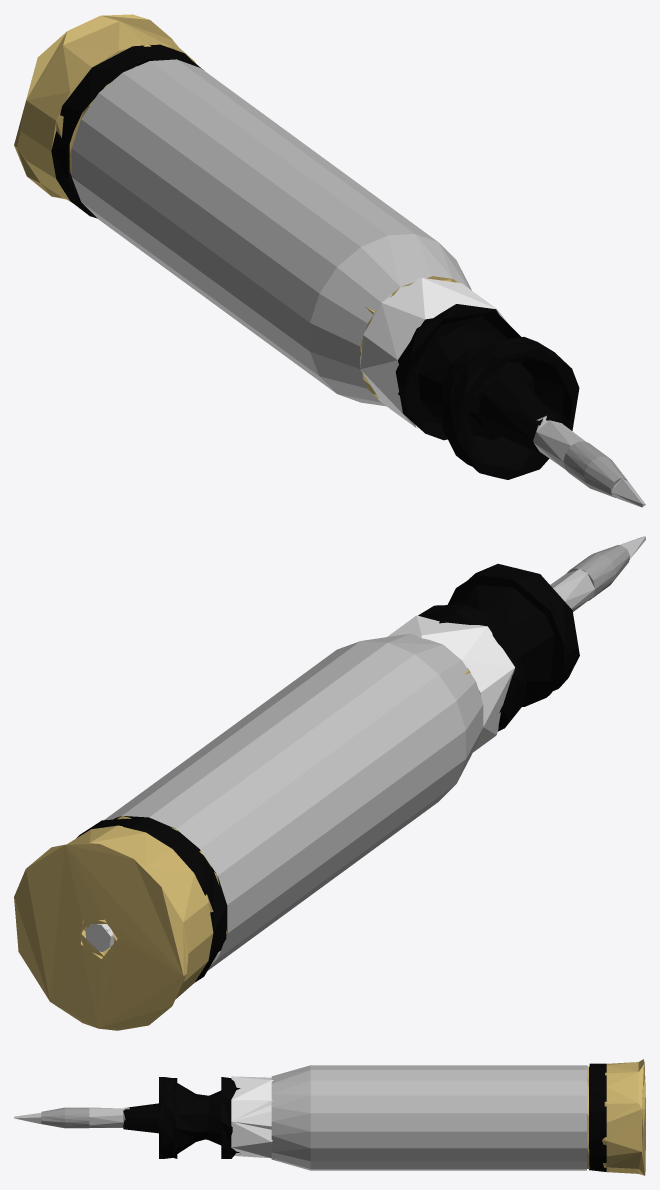
3 views of the same model, one above another, from view 1: azimuth 30°, elevation 25°; view 2: azimuth 150°, elevation 25°; view 3: azimuth 270°, elevation 25° (orthographic). The views are drawn at different scales.
Visible parts, largest first — view 1: O_ip_m829__Cbbb, O_ip_m829__C000, O_ip_m829__Ccb6, O_ip_m829__Ceee, O_ip_m829__C999; view 2: O_ip_m829__Cbbb, O_ip_m829__Ccb6, O_ip_m829__C000, O_ip_m829__Ceee, O_ip_m829__C999; view 3: O_ip_m829__Cbbb, O_ip_m829__C000, O_ip_m829__Ccb6, O_ip_m829__Ceee, O_ip_m829__C999.
Boxes of the visible parts, <box> form: O_ip_m829__Cbbb: <box>71,59,645,507</box>; O_ip_m829__C000: <box>51,44,579,479</box>; O_ip_m829__Ccb6: <box>14,14,458,398</box>; O_ip_m829__Ceee: <box>360,277,508,428</box>; O_ip_m829__C999: <box>563,441,627,497</box>; O_ip_m829__Cbbb: <box>104,536,645,970</box>; O_ip_m829__Ccb6: <box>14,668,480,1030</box>; O_ip_m829__C000: <box>76,564,579,982</box>; O_ip_m829__Ceee: <box>387,615,514,752</box>; O_ip_m829__C999: <box>566,545,629,600</box>; O_ip_m829__Cbbb: <box>14,1065,586,1170</box>; O_ip_m829__C000: <box>123,1063,606,1171</box>; O_ip_m829__Ccb6: <box>271,1059,645,1175</box>; O_ip_m829__Ceee: <box>231,1076,273,1158</box>; O_ip_m829__C999: <box>41,1107,89,1128</box>.
Bounding box in the file's own units: 0.4676 × 0.4771 × 2.57.
